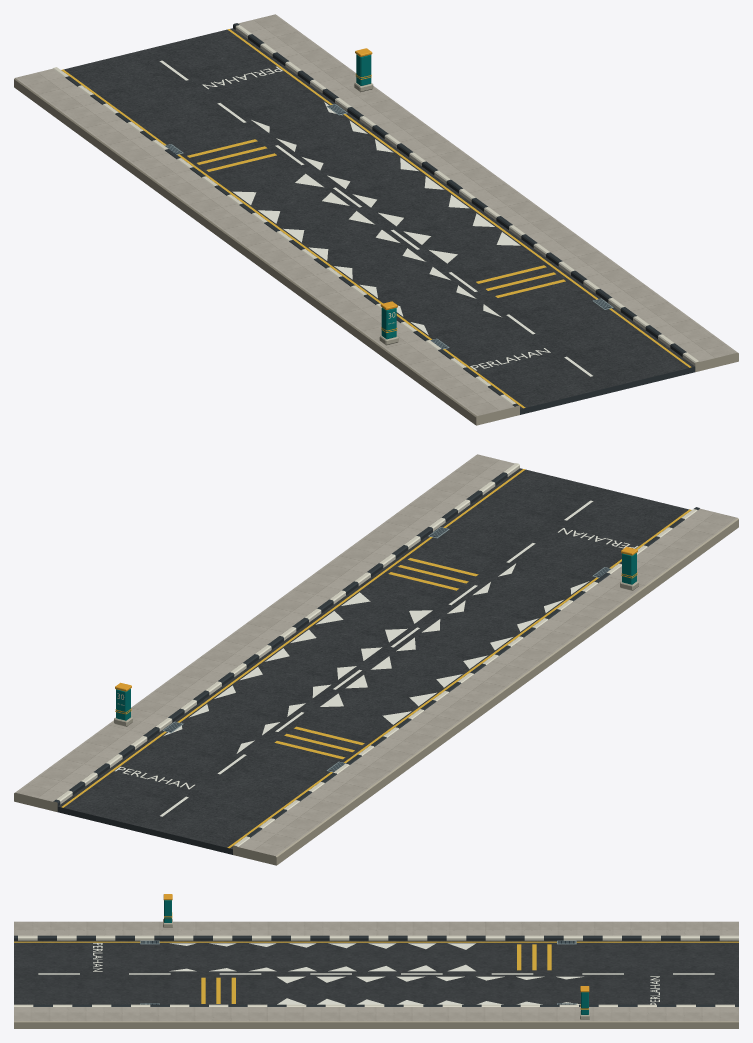
3 renders of one model, top to bottom at view 1: azimuth 30°, elevation 25°; view 2: azimuth 150°, elevation 25°; view 3: azimuth 270°, elevation 25°, orthographic. The views are drawn at different scales.
Parts seen in each view (by area): view 1: Road Deck, Kerbs and Footways, White optical teeth, Road Markings, Transverse approach bars, Route markers; view 2: Road Deck, Kerbs and Footways, White optical teeth, Road Markings, Transverse approach bars, Route markers; view 3: Road Deck, Kerbs and Footways, White optical teeth, Road Markings, Transverse approach bars, Route markers, Approach legends, Drainage and Utility Covers.
Part boxes in pixels (left/top/right/bottom): Road Deck: left=64, top=28, right=695, bottom=414; Kerbs and Footways: left=14, top=14, right=738, bottom=425; White optical teeth: left=232, top=102, right=520, bottom=335; Road Markings: left=61, top=29, right=691, bottom=408; Transverse approach bars: left=187, top=139, right=565, bottom=297; Route markers: left=356, top=54, right=396, bottom=339; Road Deck: left=57, top=468, right=688, bottom=854; Kerbs and Footways: left=14, top=454, right=738, bottom=865; White optical teeth: left=164, top=563, right=589, bottom=753; Road Markings: left=61, top=469, right=691, bottom=848; Transverse approach bars: left=274, top=558, right=478, bottom=759; Route markers: left=116, top=553, right=636, bottom=720; Road Deck: left=14, top=940, right=738, bottom=1004; Kerbs and Footways: left=14, top=921, right=738, bottom=1028; White optical teeth: left=169, top=943, right=583, bottom=1004; Road Markings: left=14, top=941, right=738, bottom=974; Transverse approach bars: left=201, top=944, right=551, bottom=1003; Route markers: left=164, top=900, right=588, bottom=1014; Approach legends: left=93, top=943, right=659, bottom=1004; Drainage and Utility Covers: left=140, top=940, right=576, bottom=1004.
Size of the model in its own units: 10.5 by 1.77 by 32.
14 materials, 3 textured.
